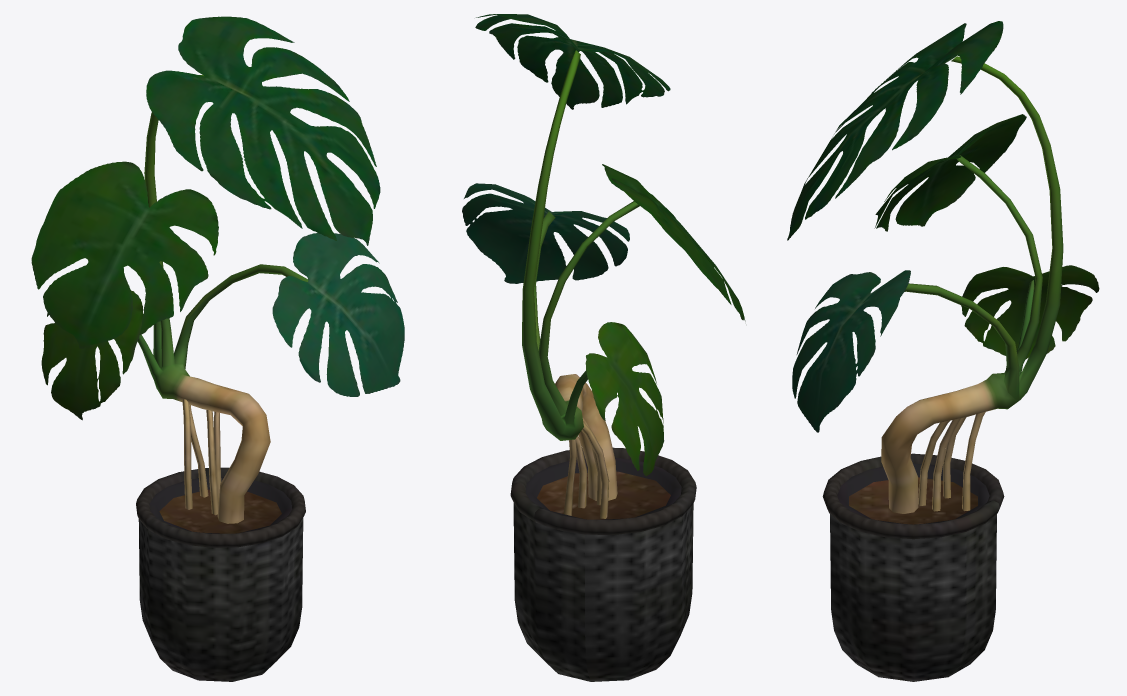
3 renders of one model, left to right at view 1: azimuth 30°, elevation 25°; view 2: azimuth 150°, elevation 25°; view 3: azimuth 270°, elevation 25°, orthographic. The views are drawn at different scales.
Bounding box in the file's own units: 9.71 × 17.64 × 8.31.
Materials: 2 (2 with a texture image).
